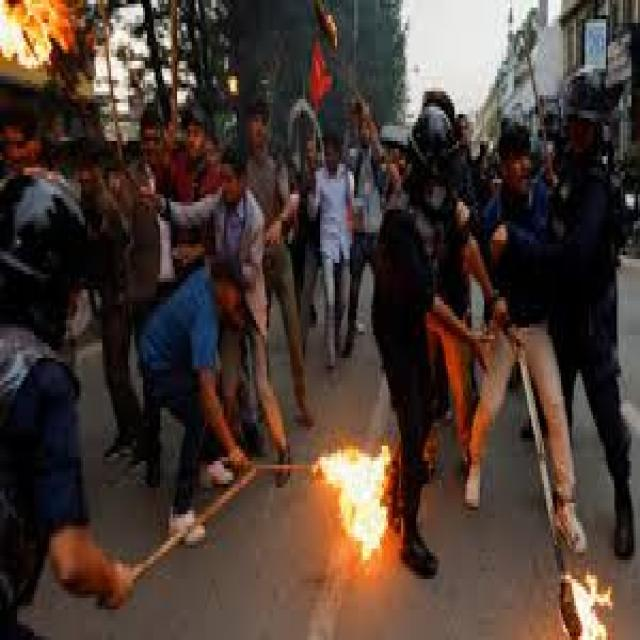fire: (319, 439, 392, 563), (2, 2, 97, 69), (568, 571, 612, 640)
